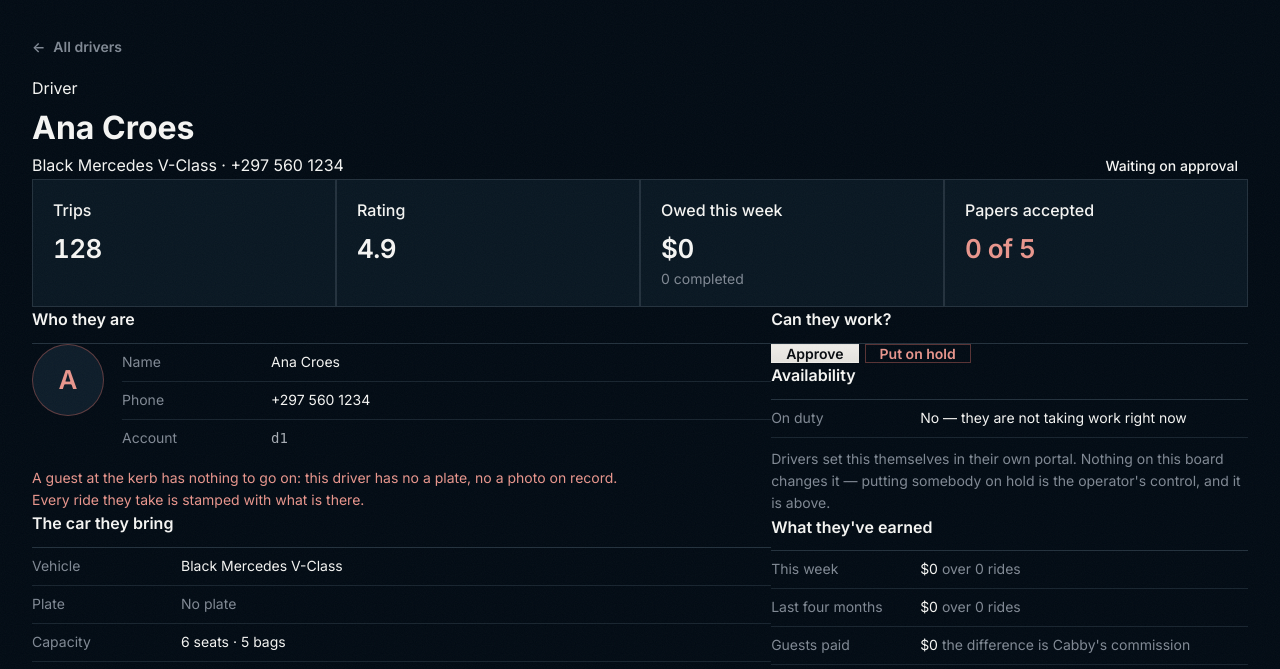
a driver's own page › warns, before approving, that a driver with no car leaves guests nothing to look for
The width and height of the screenshot is (1280, 669).
Click the button "Approve" at (815, 354), box x1=771 y1=344 x2=858 y2=363
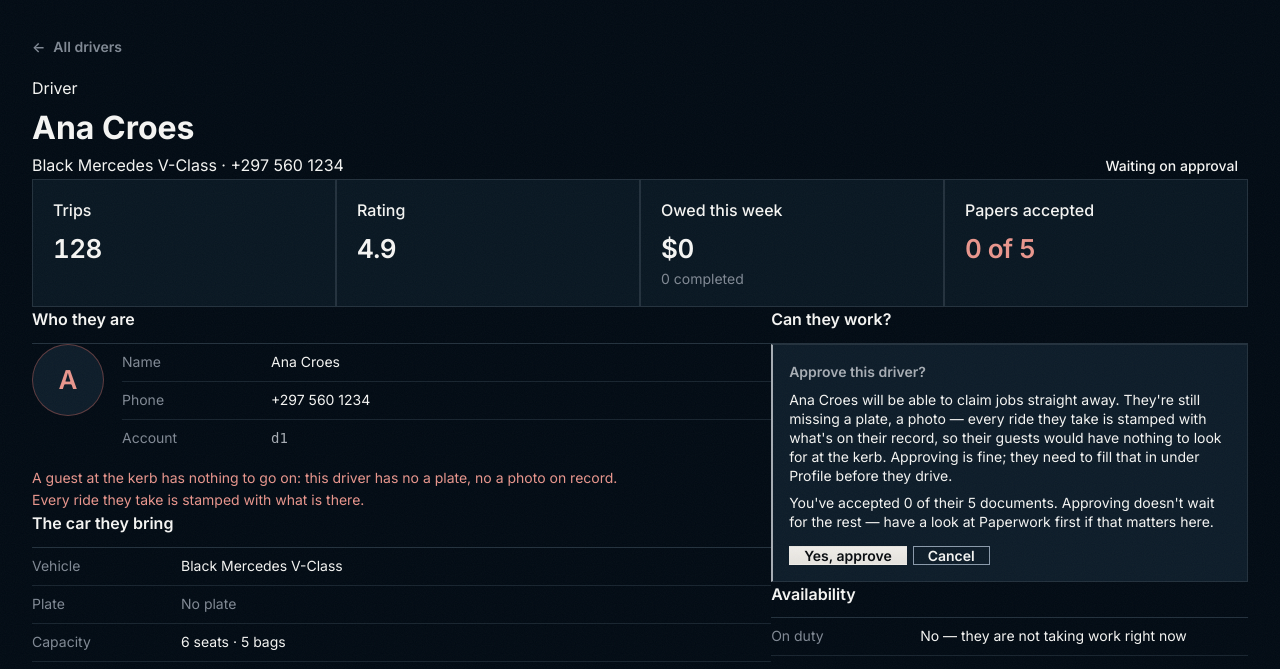
Expected: the button "Yes, approve" is enabled, x1=789 y1=546 x2=907 y2=565
Expected: the text "nothing to look for at the kerb" is shown, x1=789 y1=391 x2=1222 y2=484
